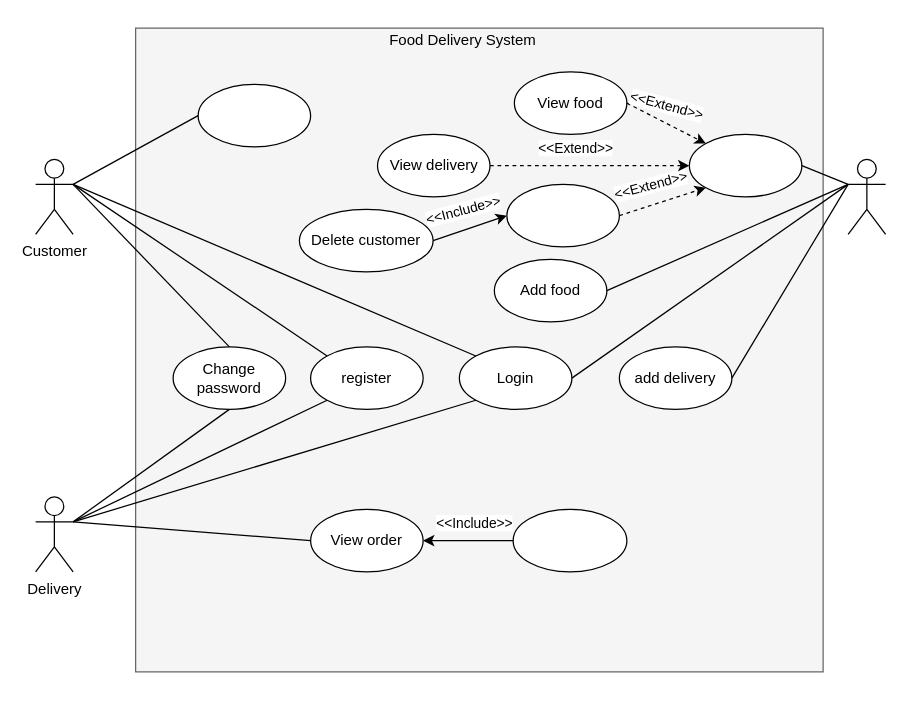
This 909x704 diagram has some shape labels left out. Each missing label, with the centre of its shape:
"accept order" goes at (569,540).
"Admin" goes at (866,196).
"Make order" goes at (254,115).
"manage view" goes at (745,165).
"View customer" goes at (562,215).
